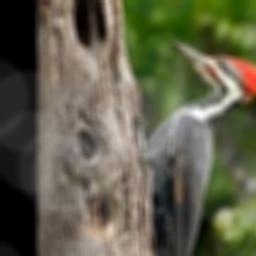Woodpecker: (141, 40, 256, 256)
